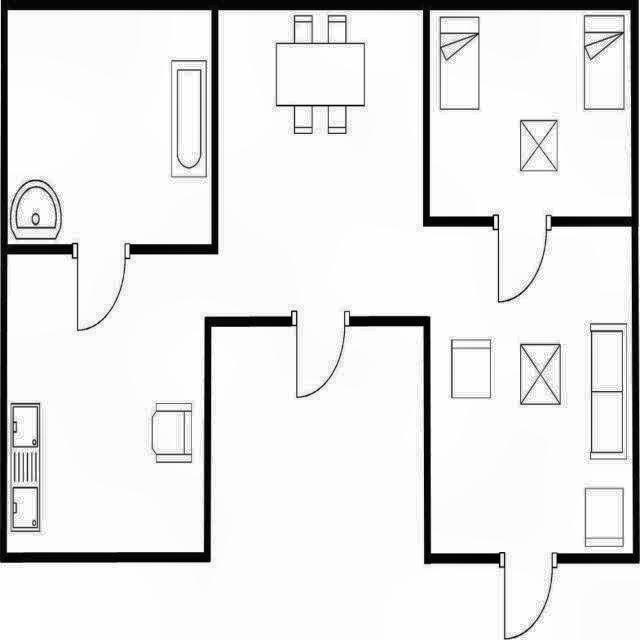room: (7, 10, 633, 553), (8, 11, 212, 245), (430, 10, 631, 217)
